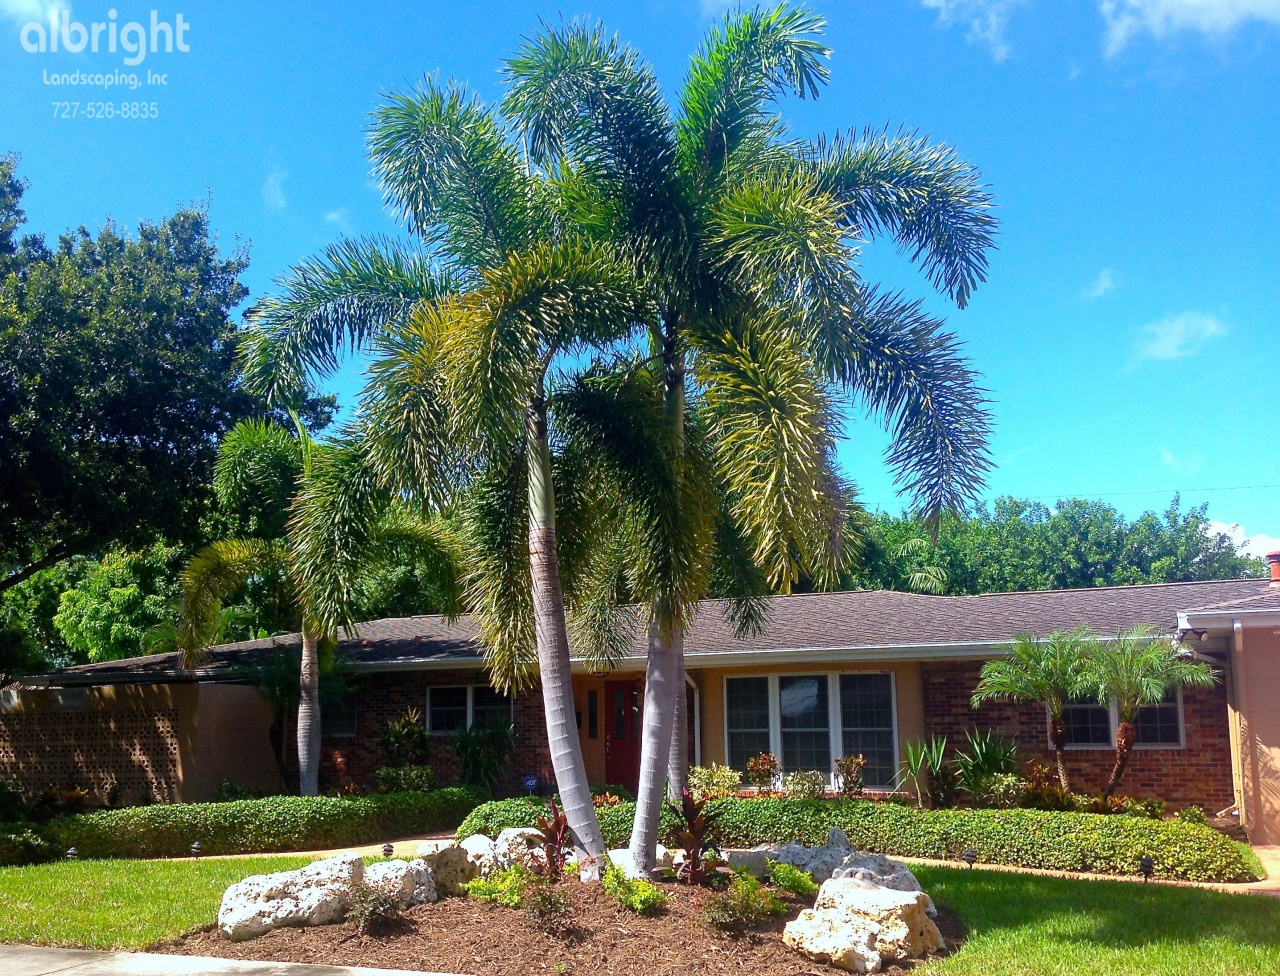tree: (278, 39, 972, 876), (172, 434, 433, 809), (973, 624, 1224, 812)
